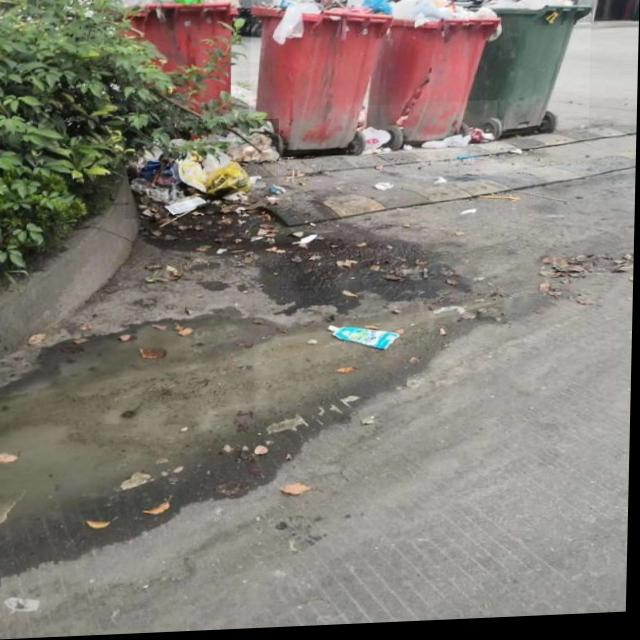garbage: (126, 121, 279, 220), (355, 105, 498, 158)
overflow: (249, 0, 393, 154), (367, 0, 498, 146), (467, 0, 592, 137), (116, 0, 239, 112)
